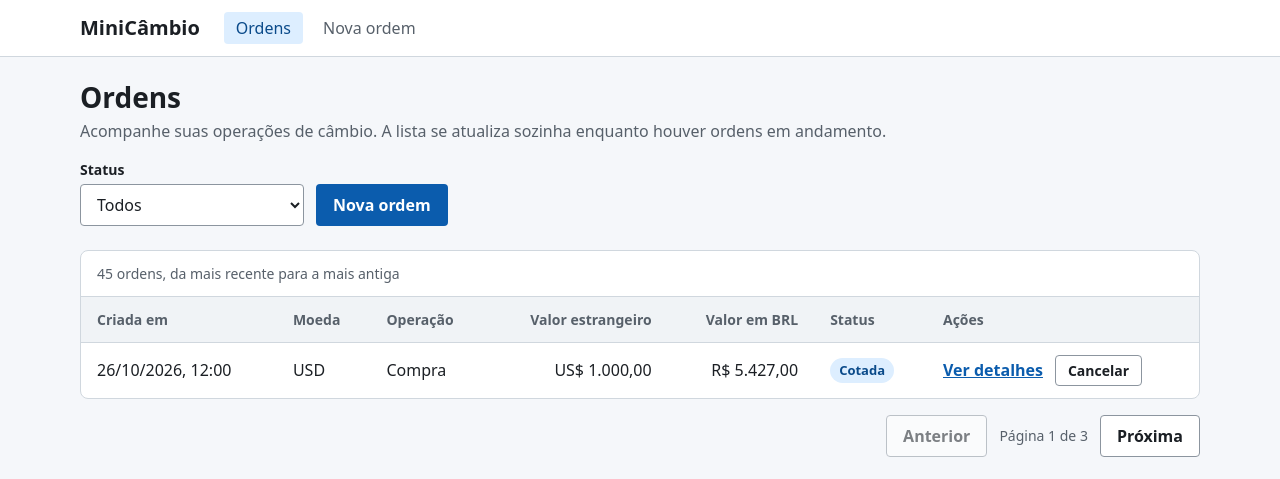
Test: OrdersListPage › navega entre as páginas
The image size is (1280, 479).
Expected: the text "Página 1 de 3" is shown, [999,425,1088,446]
Click the button "Próxima": [1150, 436] box [1100,415,1200,457]
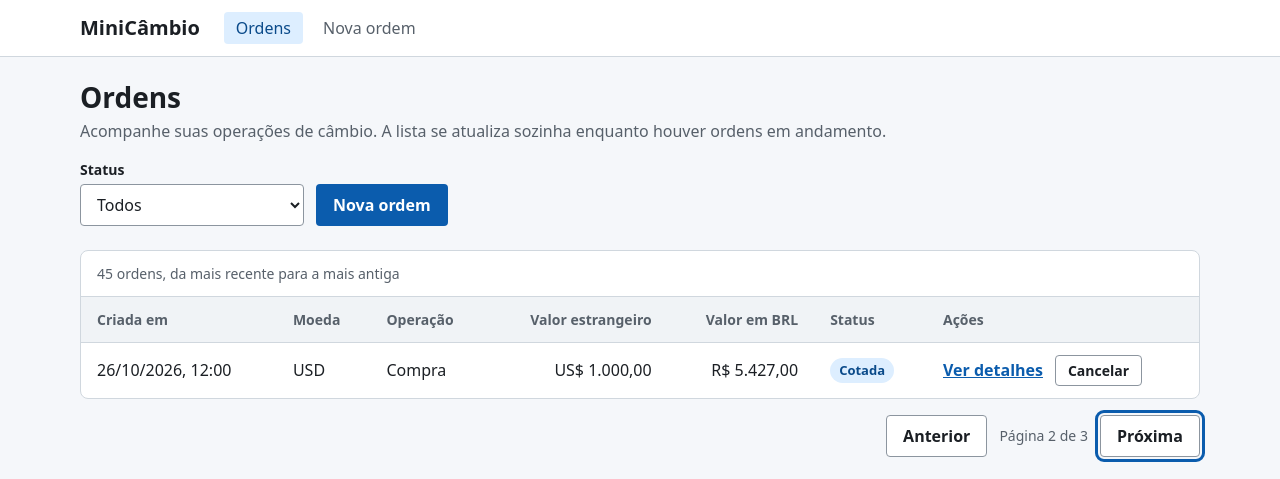
Expected: the text "Página 2 de 3" is shown, [999,425,1088,446]
